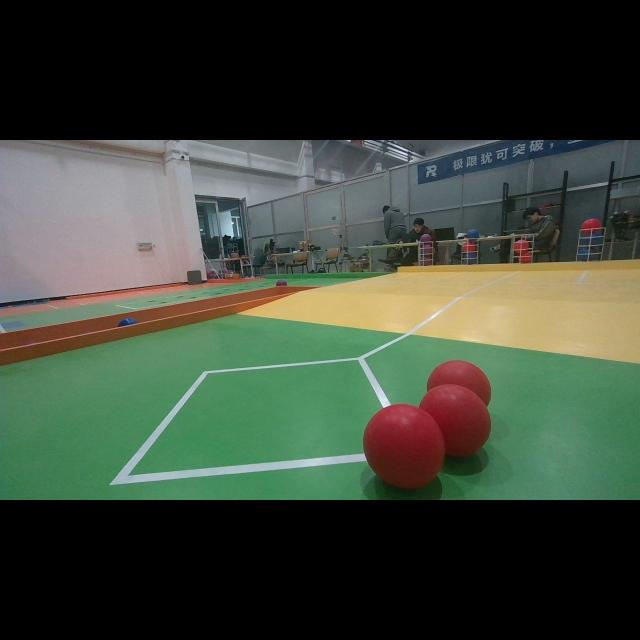R: (364, 404, 444, 488), (408, 385, 496, 461), (425, 359, 485, 421)
